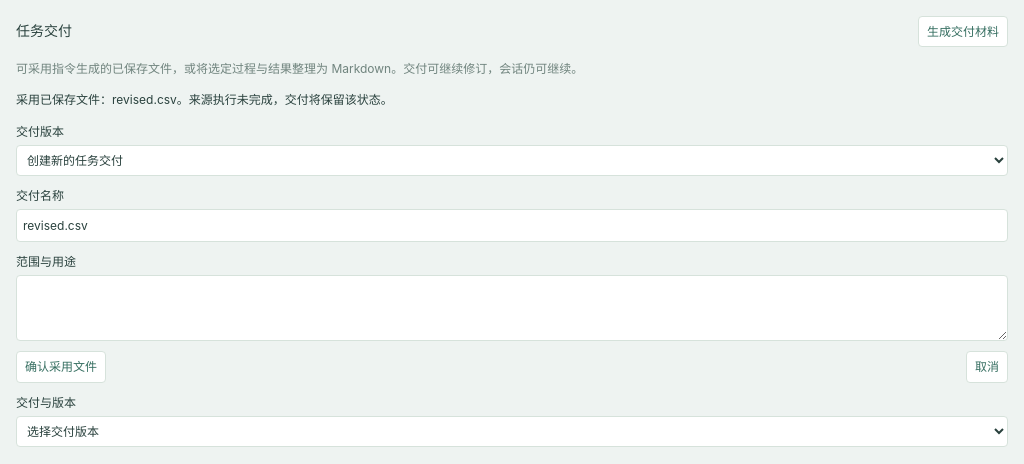
requires explicit adoption of the original file and can create a new version of an existing delivery
Expected: the text "可采用指令生成的已保存文件，或将选定过程与结果整理为 Markdown。交付可继续修订，会话仍可继续。" is shown, [16,61,583,76]
Expected: the text "采用已保存文件：revised.csv。来源执行未完成，交付将保留该状态。" is shown, [16,92,393,107]
Select "修订：分析材料 · v1" in the dropdown labelled "交付版本" at (512, 160), box [16,145,1008,176]
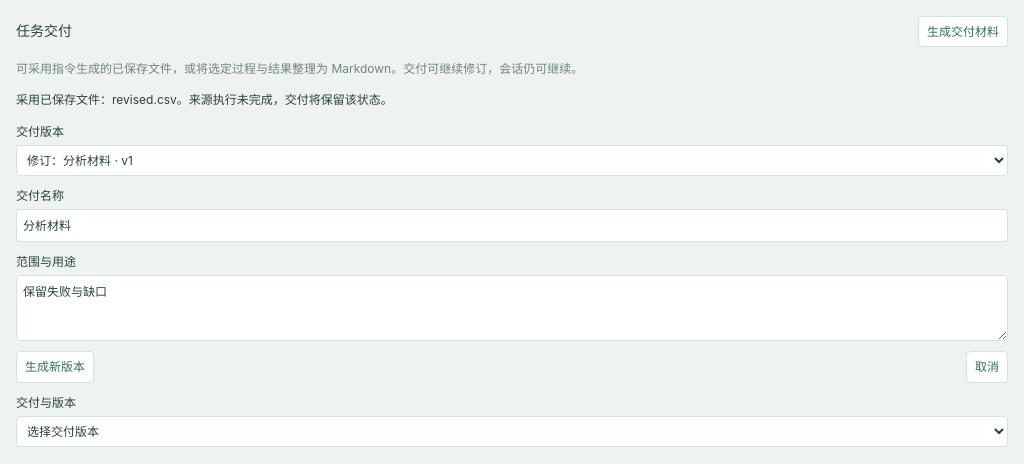
Click the button "生成新版本" at (55, 367), box [16,351,94,382]
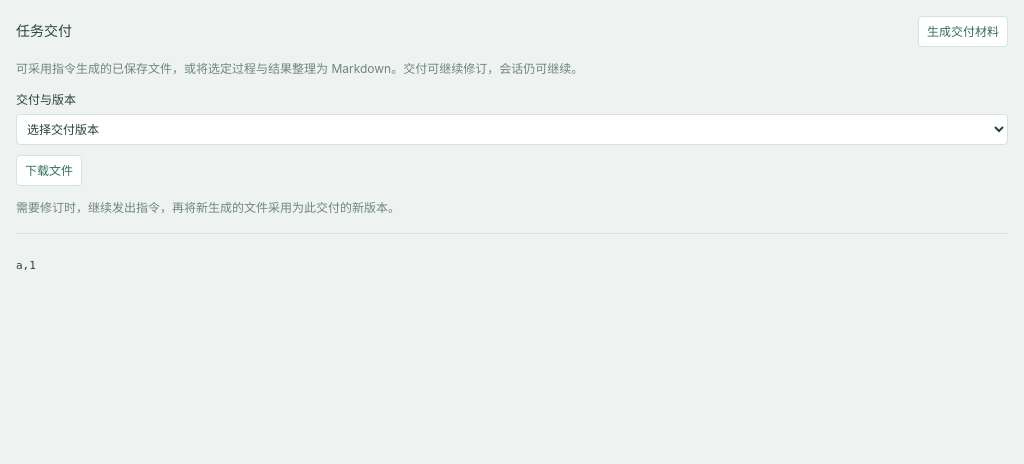
Now the text "a,1" is shown, box [16,259,36,272]
